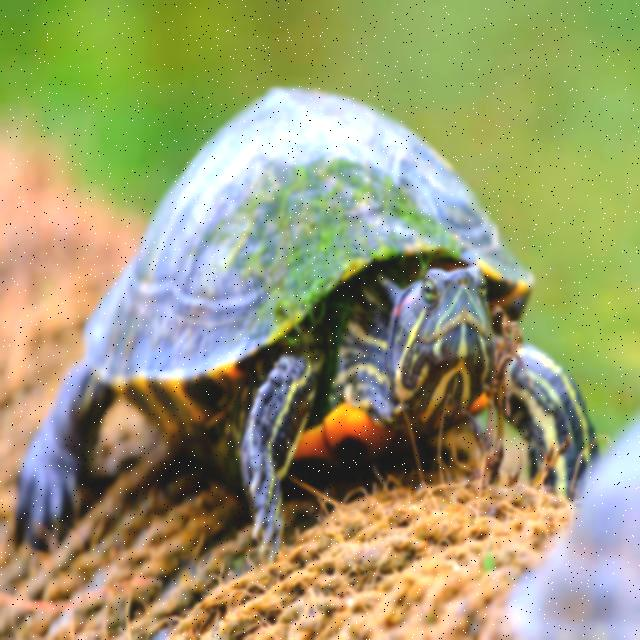tortoise: (0, 81, 597, 571)
